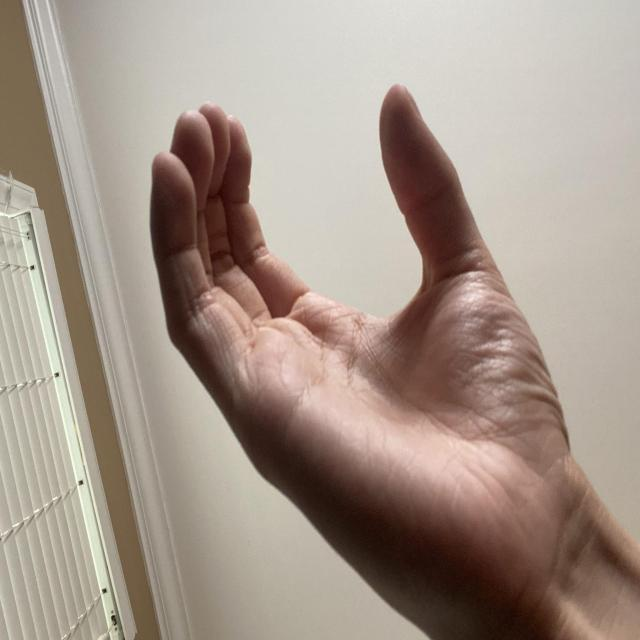C: (0, 181, 421, 640)
